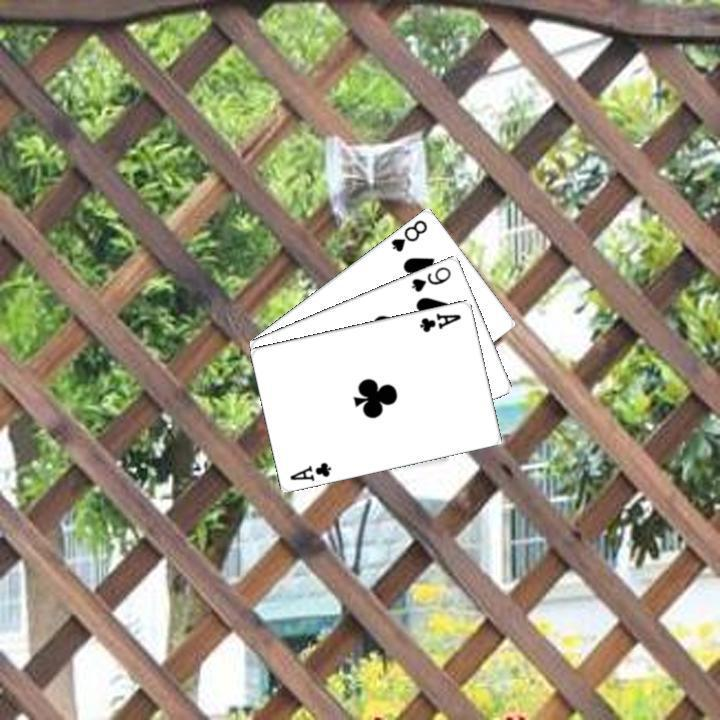8: (386, 215, 429, 254)
9: (407, 262, 453, 294)
A: (286, 457, 334, 483), (416, 308, 463, 334)
